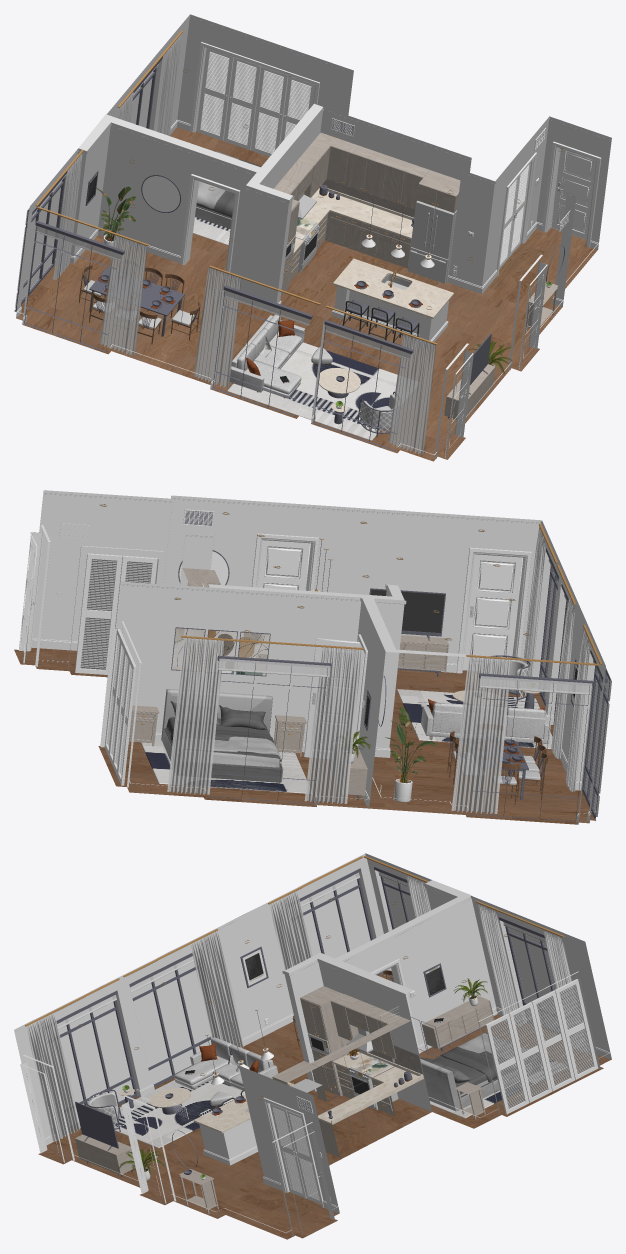
File: apartment-interior_optimized.glb
The picture shows the model from 3 angles, top to bottom: view 1: azimuth 30°, elevation 25°; view 2: azimuth 150°, elevation 25°; view 3: azimuth 270°, elevation 25°; orthographic projection. The views are drawn at different scales.
Parts seen in each view (by area): view 1: walls_floor_0, Cube.059_walls_0, walls_walls_0, kitchen_cabinets_wood_0, carpet.001_carpet_0, door_frame.004_white_0, molding_walls_0, curtain.005_curtain_0, curtain.001_curtain_0, door_frame.003_white_0, curtain.004_curtain_0, coach_white_fabric_0 (+29 smaller); view 2: walls_walls_0, Cube.059_walls_0, walls_floor_0, curtain.006_curtain_0, curtain.002_curtain_0, curtain.003_curtain_0, Cube.063_bed_0, molding_walls_0, closet_door_white_0, door.003_white_0, coach_white_fabric_0, carpet_carpet_0 (+31 smaller); view 3: Cube.059_walls_0, walls_floor_0, walls_walls_0, kitchen_cabinets_wood_0, window.002_glass_0, door_frame.003_white_0, door_frame.004_white_0, window.001_glass_0, Cube.063_bed_0, molding_walls_0, curtain.001_curtain_0, closet_door_white_0 (+30 smaller).
Part boxes in pixels (x1,y1,x2,y2): walls_floor_0: [14, 127, 597, 461]; Cube.059_walls_0: [70, 103, 549, 303]; walls_walls_0: [16, 14, 611, 423]; kitchen_cabinets_wood_0: [274, 132, 460, 296]; carpet.001_carpet_0: [227, 342, 397, 440]; door_frame.004_white_0: [196, 48, 260, 150]; molding_walls_0: [17, 15, 610, 455]; curtain.005_curtain_0: [99, 235, 147, 355]; curtain.001_curtain_0: [388, 334, 435, 455]; door_frame.003_white_0: [250, 66, 314, 156]; curtain.004_curtain_0: [193, 267, 241, 388]; coach_white_fabric_0: [229, 314, 305, 398]; walls_walls_0: [32, 490, 605, 823]; Cube.059_walls_0: [116, 532, 466, 808]; walls_floor_0: [14, 647, 595, 824]; curtain.006_curtain_0: [451, 657, 511, 813]; curtain.002_curtain_0: [167, 638, 223, 794]; curtain.003_curtain_0: [304, 647, 361, 803]; Cube.063_bed_0: [161, 689, 283, 782]; molding_walls_0: [31, 490, 604, 823]; closet_door_white_0: [68, 545, 163, 674]; door.003_white_0: [462, 554, 522, 670]; coach_white_fabric_0: [421, 702, 550, 743]; carpet_carpet_0: [141, 741, 306, 793]; Cube.059_walls_0: [239, 880, 495, 1213]; walls_floor_0: [38, 974, 611, 1239]; walls_walls_0: [14, 853, 611, 1137]; kitchen_cabinets_wood_0: [272, 986, 410, 1157]; window.002_glass_0: [131, 961, 211, 1084]; door_frame.003_white_0: [485, 1002, 552, 1114]; door_frame.004_white_0: [531, 979, 598, 1091]; window.001_glass_0: [58, 1002, 133, 1104]; Cube.063_bed_0: [420, 1033, 540, 1111]; molding_walls_0: [15, 853, 610, 1232]; curtain.001_curtain_0: [27, 1013, 80, 1142]; closet_door_white_0: [263, 1097, 323, 1207].
Size of the model in its own units: 14.91 by 6.23 by 15.03.
25 materials, 14 textured.
